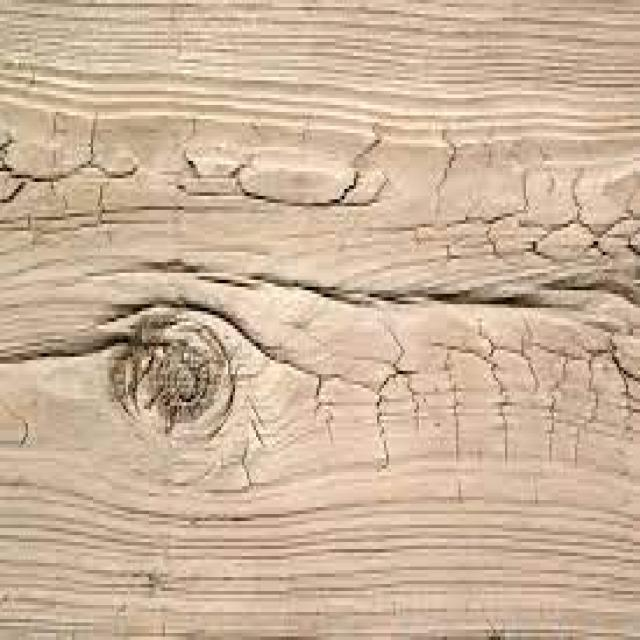have-wooden-eyes: (114, 310, 235, 438)
